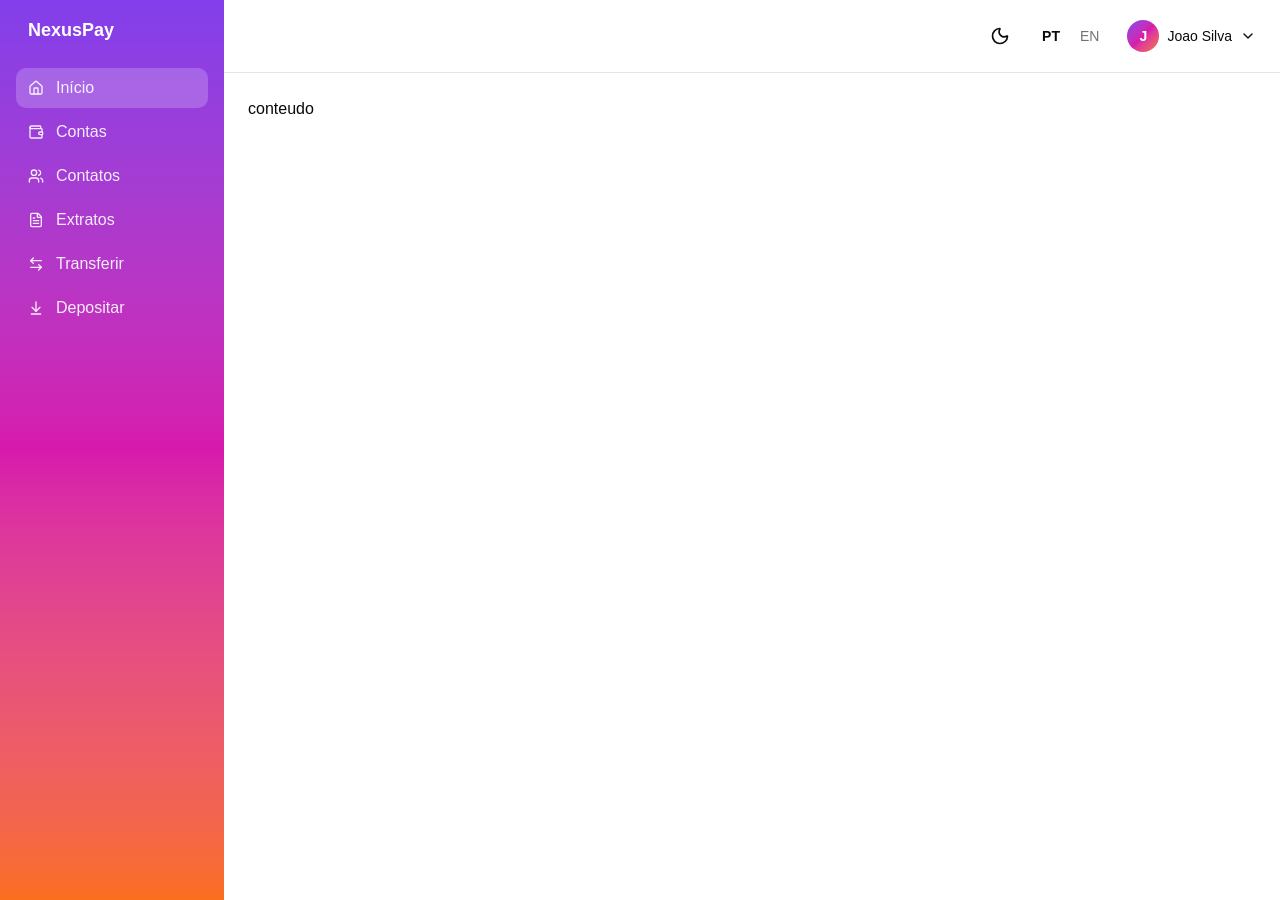
estrutura do app › o menu da conta revela quem esta logado e o sair
This screenshot has width=1280, height=900.
Expected: the text "joao@example.com" is not shown
Click the button "J Joao Silva" at (1194, 36), box 1123,16 -> 1264,56
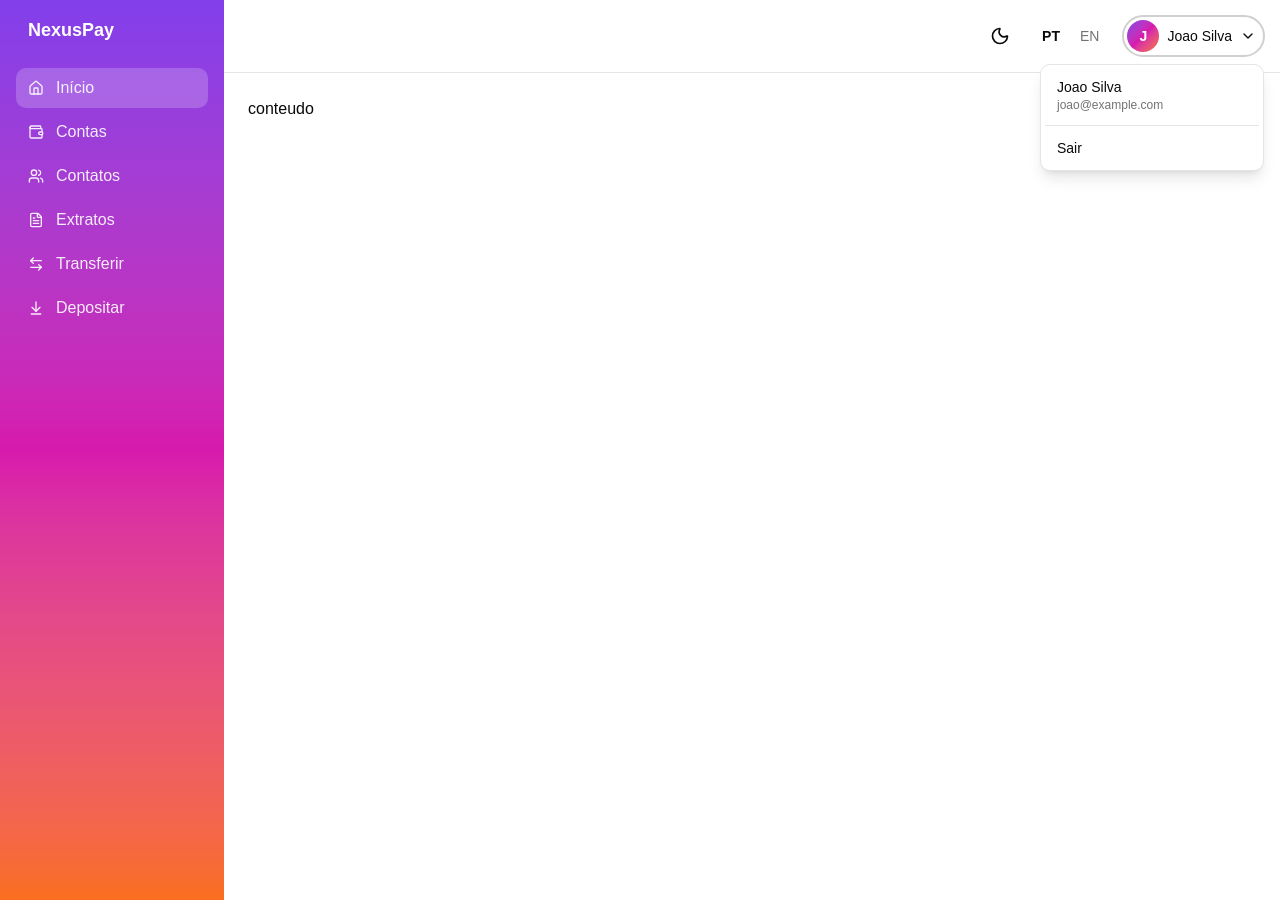
Expected: the text "joao@example.com" is shown, 1057,98 -> 1163,112
Expected: the menu item "Sair" is shown, 1045,130 -> 1259,166
